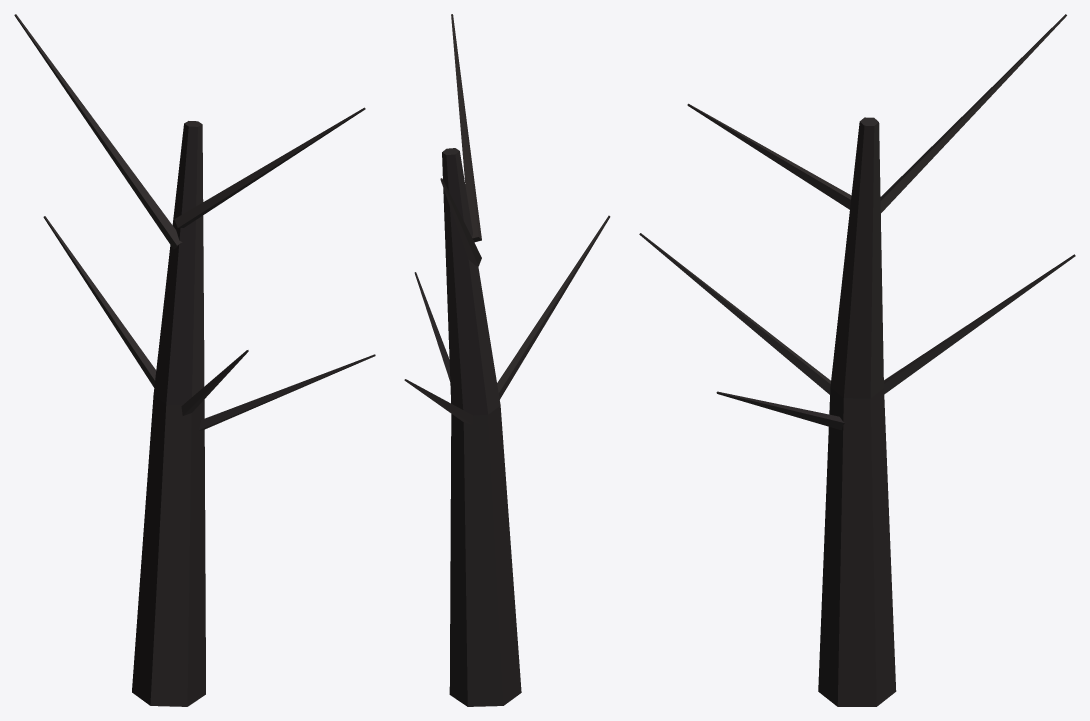
File: walk_prop_dead_tree.glb
The picture shows the model from 3 angles, left to right: view 1: azimuth 30°, elevation 25°; view 2: azimuth 150°, elevation 25°; view 3: azimuth 270°, elevation 25°; orthographic projection. The views are drawn at different scales.
Parts seen in each view (by area): view 1: walk_prop_dead_tree; view 2: walk_prop_dead_tree; view 3: walk_prop_dead_tree.
Boxes of the visible parts, x1,y1,x2,y2 form: walk_prop_dead_tree: [14, 14, 375, 706]; walk_prop_dead_tree: [404, 14, 610, 706]; walk_prop_dead_tree: [639, 14, 1075, 706].
Size of what is drawn, in the model's own units: 1.94 by 5.9 by 3.58.
Materials: 1 (1 with a texture image).
